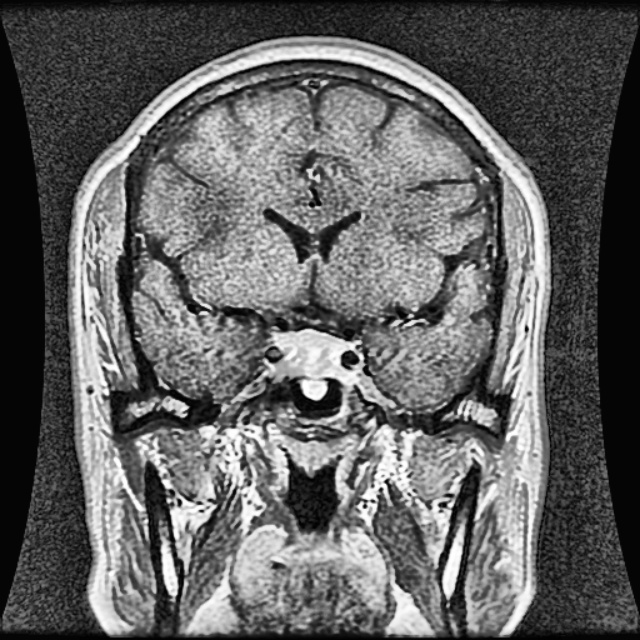Pituitary: (275, 329, 345, 400)
